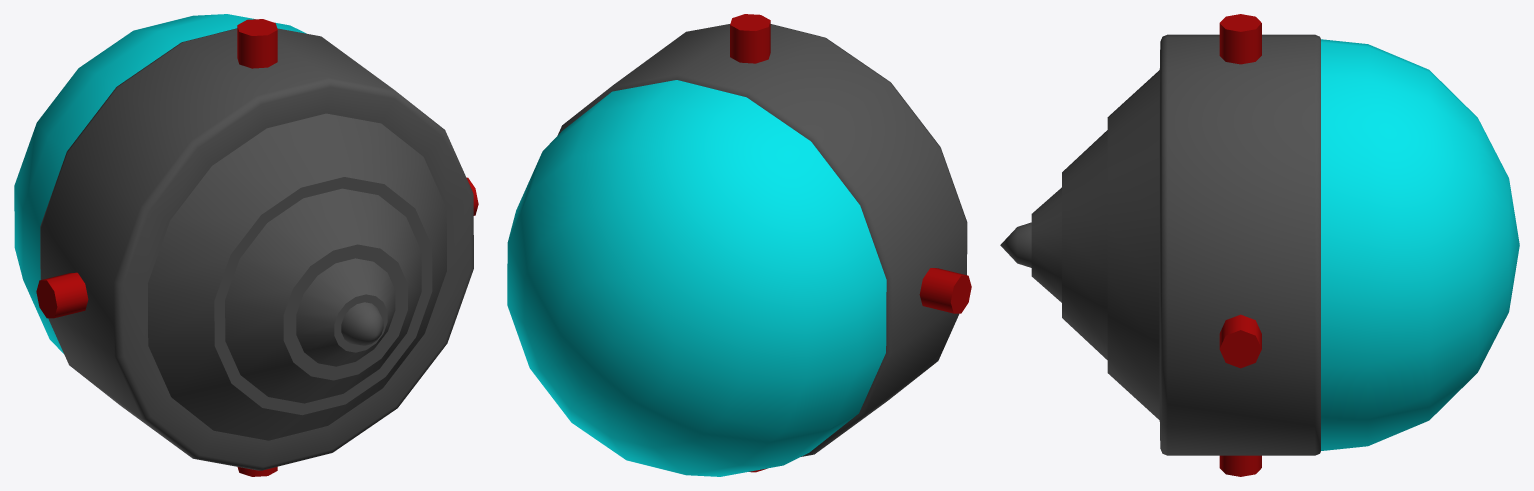
Rendered from fevi.fbx.
The picture shows the model from 3 angles, left to right: view 1: azimuth 30°, elevation 25°; view 2: azimuth 150°, elevation 25°; view 3: azimuth 270°, elevation 25°; orthographic projection.
Visible parts, largest first — view 1: FeviTop.002; view 2: FeviTop.002; view 3: FeviTop.002.
Part boxes in pixels (x1,y1,x2,y2): FeviTop.002: [14, 14, 478, 476]; FeviTop.002: [507, 14, 971, 476]; FeviTop.002: [1000, 14, 1519, 476].
Size of the model in its own units: 54.78 by 54.78 by 57.97.
